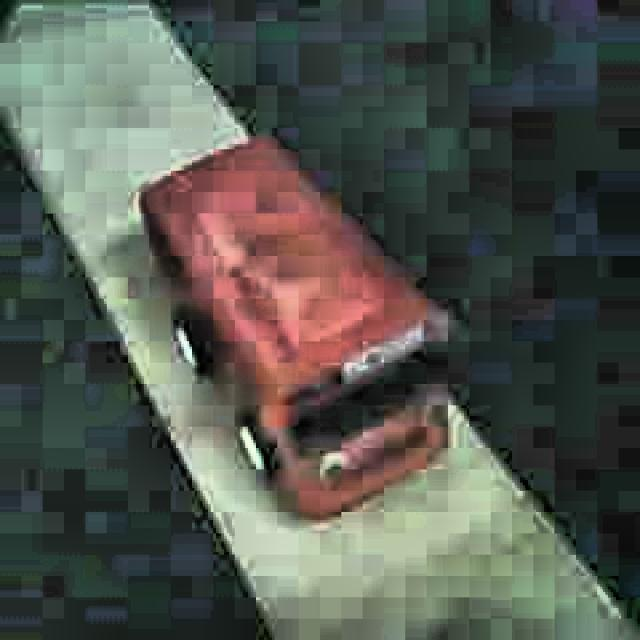bus: (139, 132, 452, 522)
